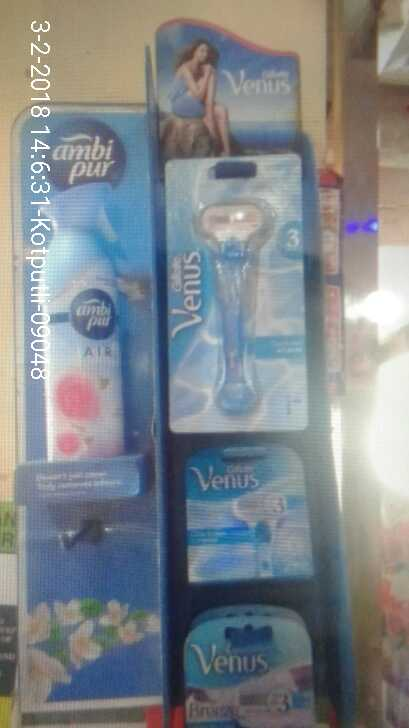beauty: (166, 159, 311, 436), (191, 456, 318, 581), (182, 619, 318, 728)
home: (33, 173, 139, 468)
